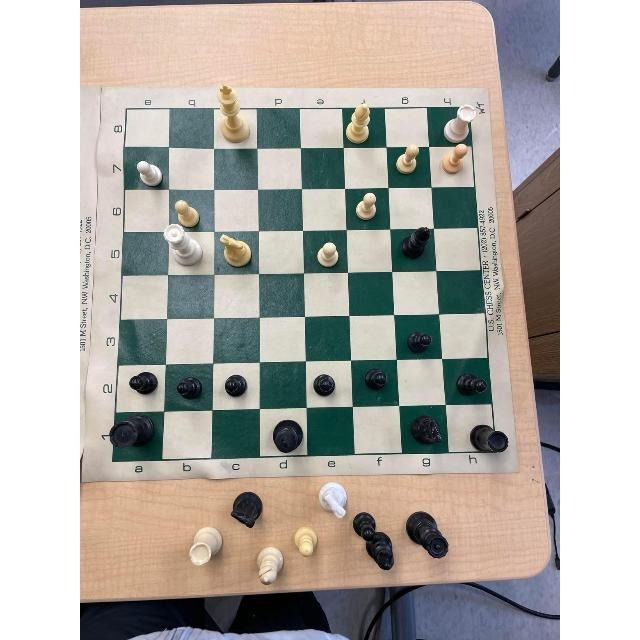black-bishop: (398, 225, 434, 264)
black-king: (270, 419, 306, 457)
black-knight: (409, 412, 443, 448)
black-pawn: (452, 372, 488, 400), (128, 371, 160, 399), (363, 367, 389, 395), (222, 372, 247, 399), (312, 372, 336, 400), (406, 331, 431, 357), (176, 377, 202, 401)
black-rook: (109, 412, 156, 453), (469, 423, 509, 459)
white-bishop: (343, 102, 375, 149)
white-king: (212, 80, 253, 145)
white-knight: (219, 231, 253, 271)
white-pawn: (441, 142, 472, 176), (173, 196, 202, 231), (132, 159, 165, 189), (395, 143, 421, 177), (353, 190, 380, 222), (315, 240, 343, 269)
white-queen: (161, 223, 205, 266)
white-rook: (444, 102, 478, 145)
